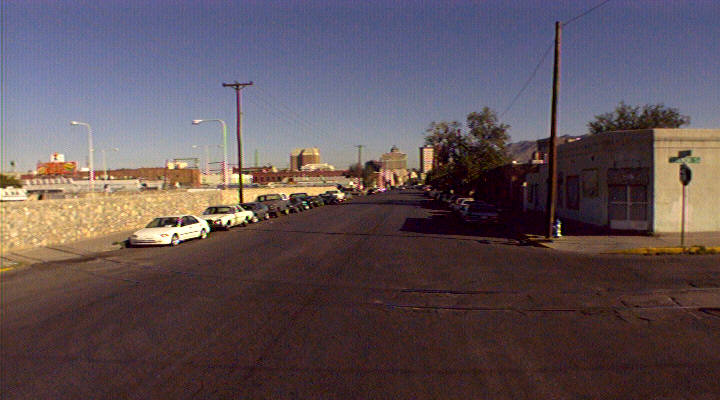Ramp: (542, 222, 637, 257)
